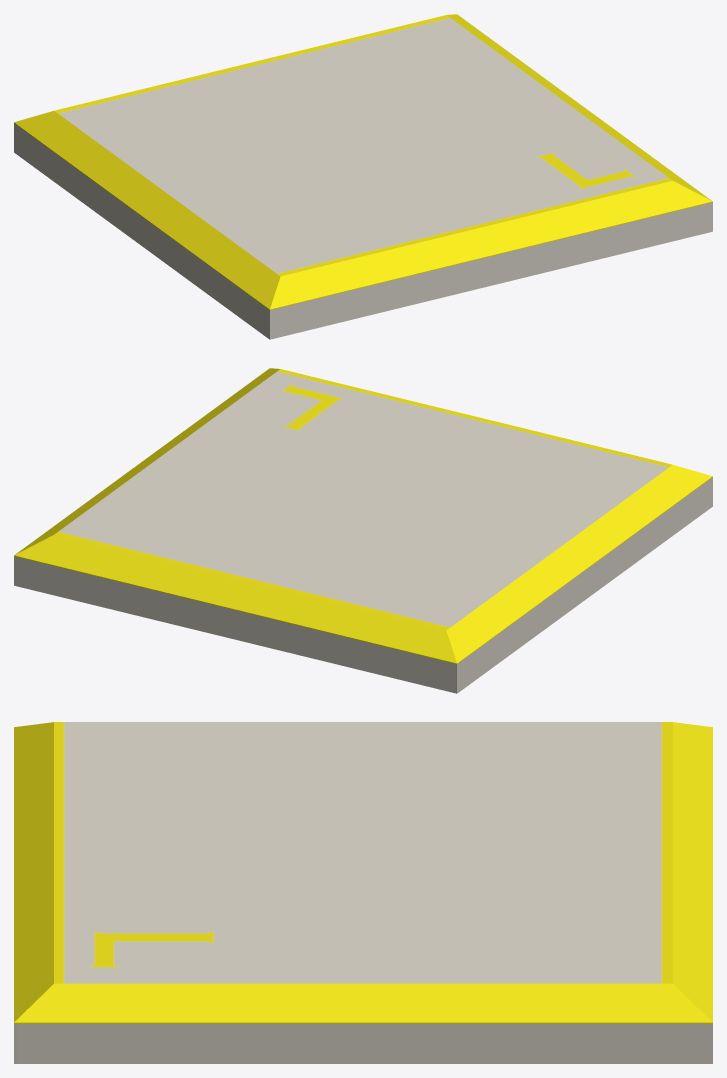
File: Yellow_PPlate.fbx
The picture shows the model from 3 angles, top to bottom: view 1: azimuth 30°, elevation 25°; view 2: azimuth 150°, elevation 25°; view 3: azimuth 270°, elevation 25°; orthographic projection. The views are drawn at different scales.
Visible parts, largest first — view 1: pCube1; view 2: pCube1; view 3: pCube1.
Boxes of the visible parts, x1=… form: pCube1: x1=14, y1=14, x2=712, y2=339; pCube1: x1=14, y1=368, x2=712, y2=693; pCube1: x1=14, y1=722, x2=712, y2=1063.
Size of the model in its own units: 100 by 10 by 100.
1 material, 1 textured.
